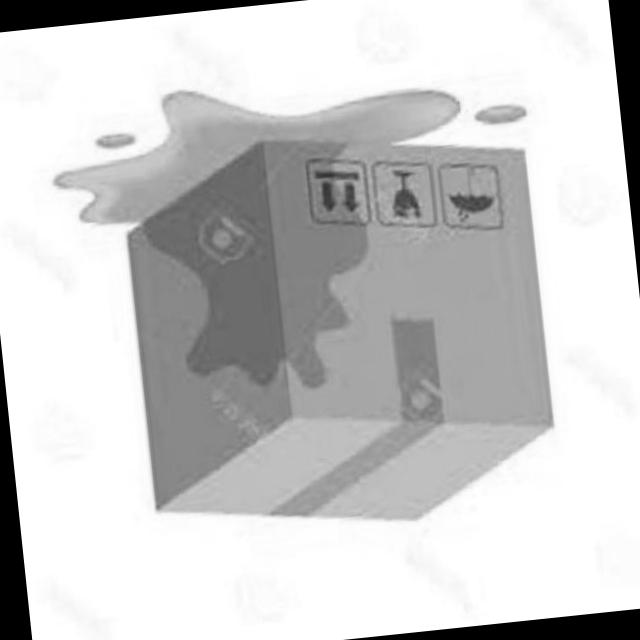box: (96, 100, 582, 550)
